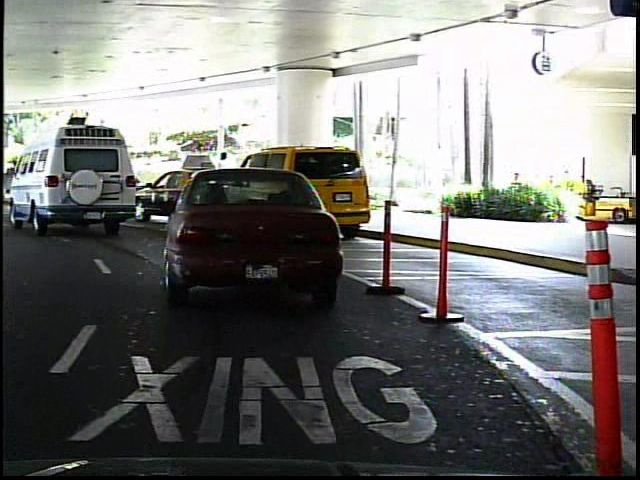person: (213, 148, 239, 216), (48, 156, 69, 200), (12, 156, 18, 198)
